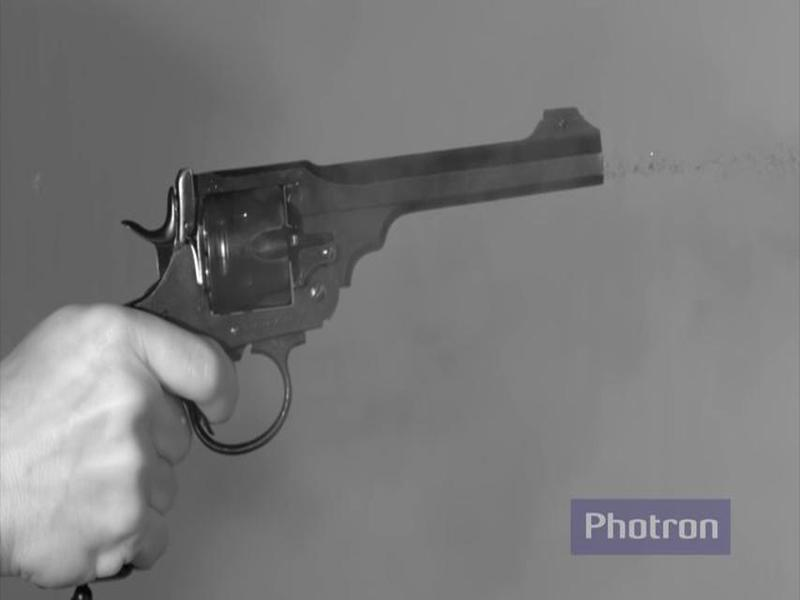Revolver: (82, 122, 635, 474)
